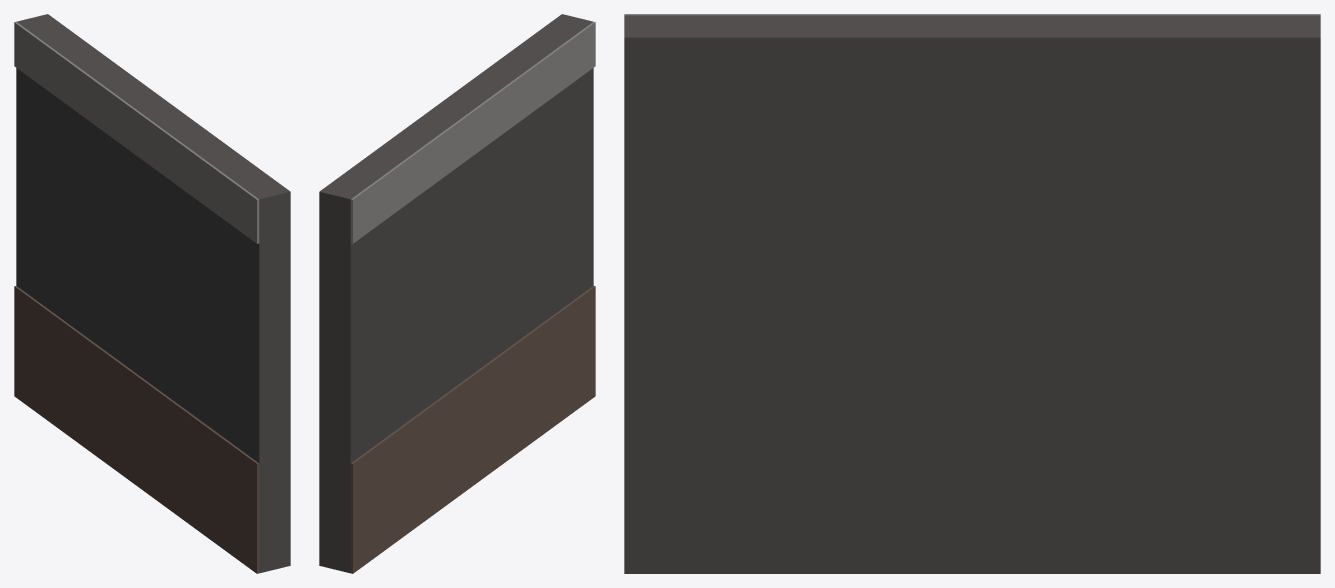
The model's file is B_k_wall.glb.
3 views of the same model, side by side, from view 1: azimuth 30°, elevation 25°; view 2: azimuth 150°, elevation 25°; view 3: azimuth 270°, elevation 25° (orthographic). The views are drawn at different scales.
Visible parts, largest first — view 1: Cube, Cube.001, Cube.002; view 2: Cube, Cube.001, Cube.002; view 3: Cube, Cube.002.
Part boxes in pixels (box(x1,y1,x2,y2)): Cube: box(16, 14, 290, 573); Cube.001: box(14, 285, 259, 573); Cube.002: box(14, 21, 259, 243); Cube: box(319, 14, 593, 573); Cube.001: box(350, 285, 595, 573); Cube.002: box(350, 21, 595, 243); Cube: box(624, 15, 1320, 573); Cube.002: box(624, 14, 1320, 15).
Bounding box in the file's own units: 0.32 × 3.4 × 4.
